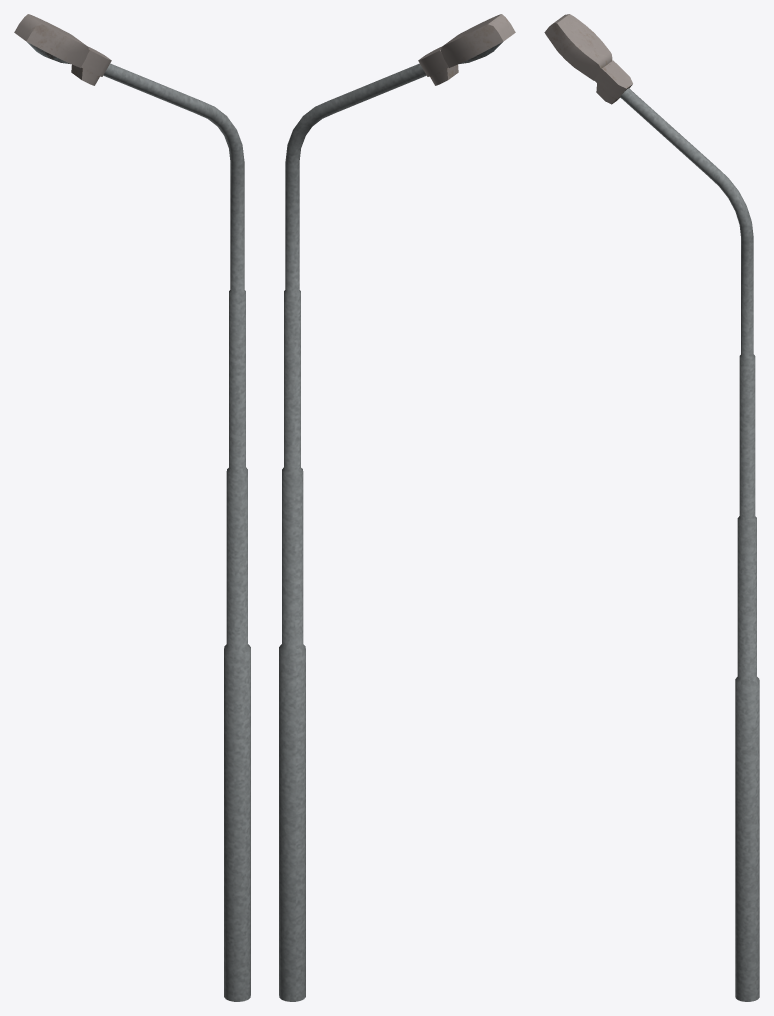
File: lamp.glb
3 views of the same model, side by side, from view 1: azimuth 30°, elevation 25°; view 2: azimuth 150°, elevation 25°; view 3: azimuth 330°, elevation 25° (orthographic). The views are drawn at different scales.
Parts seen in each view (by area): view 1: stuplp; view 2: stuplp; view 3: stuplp.
Part boxes in pixels (left/top/right/bottom): stuplp: left=14, top=14, right=250, bottom=1001; stuplp: left=279, top=14, right=515, bottom=1001; stuplp: left=544, top=14, right=759, bottom=1001.
Size of the model in its own units: 137 by 589 by 21.93.
1 material, 1 textured.
